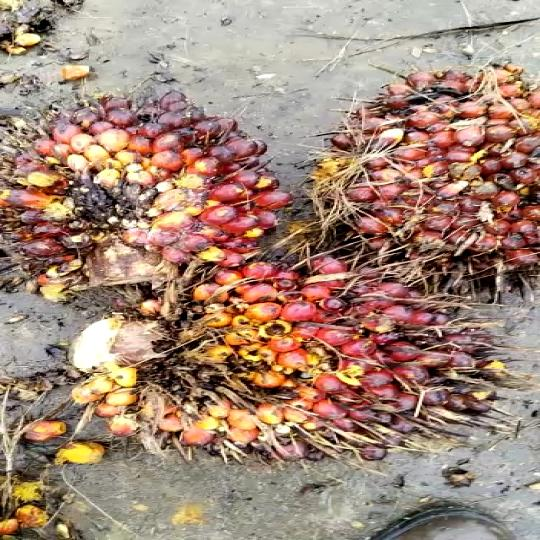masak: (42, 232, 532, 461), (0, 89, 306, 302), (301, 59, 540, 292)
